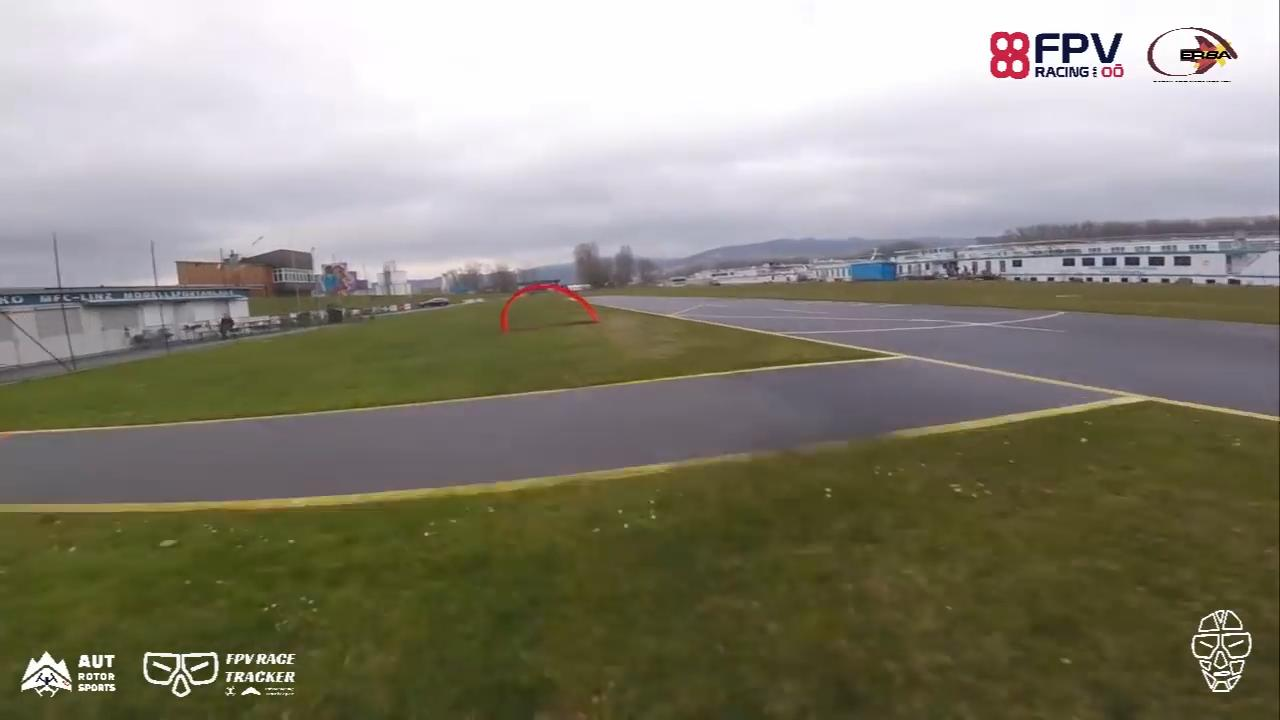gate: (500, 281, 603, 335)
